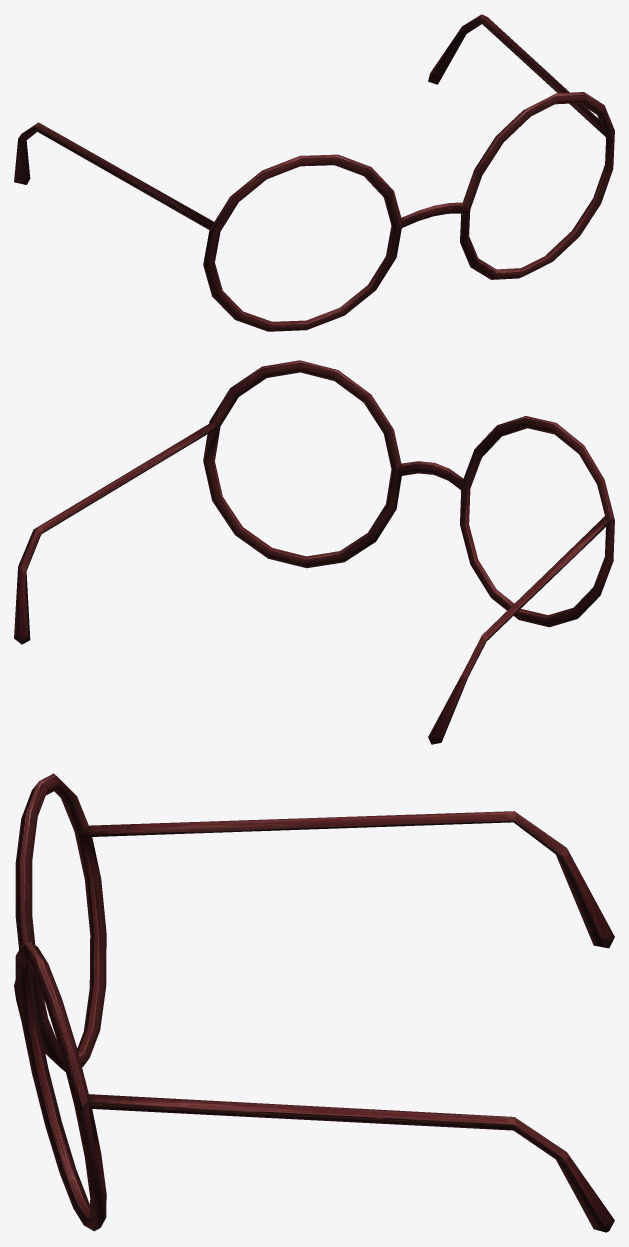
Rendered from male_glasses_01__high.glb.
3 views of the same model, one above another, from view 1: azimuth 30°, elevation 25°; view 2: azimuth 150°, elevation 25°; view 3: azimuth 270°, elevation 25° (orthographic). The views are drawn at different scales.
Parts seen in each view (by area): view 1: male_glasses_01__high; view 2: male_glasses_01__high; view 3: male_glasses_01__high.
Boxes of the visible parts, left/top/right/bottom form: male_glasses_01__high: left=14, top=14, right=614, bottom=331; male_glasses_01__high: left=14, top=360, right=614, bottom=744; male_glasses_01__high: left=14, top=773, right=614, bottom=1232.
Bounding box in the file's own units: 1.87 × 0.7523 × 1.52.
Materials: 1 (1 with a texture image).
